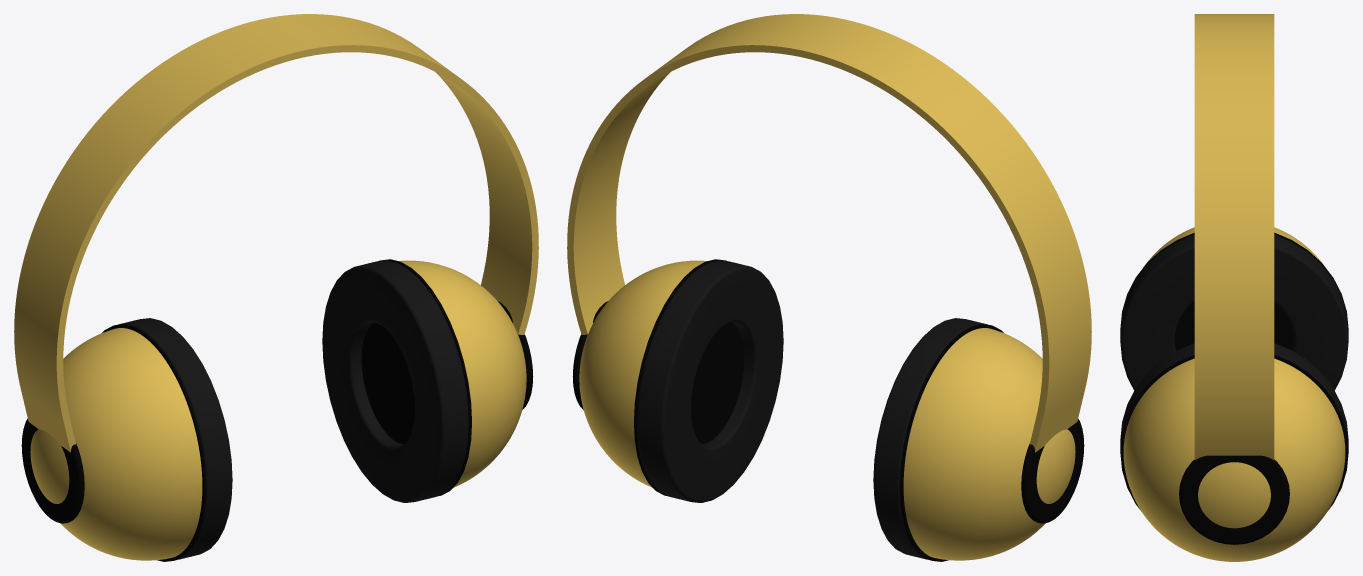
Rendered from headphones.fbx.
The picture shows the model from 3 angles, left to right: view 1: azimuth 30°, elevation 25°; view 2: azimuth 150°, elevation 25°; view 3: azimuth 270°, elevation 25°; orthographic projection. The views are drawn at different scales.
Visible parts, largest first — view 1: Куб, Сфера_2, Труба_2, Сфера, Труба_3, Диск, Цилиндр_2, Труба, Труба_1; view 2: Куб, Сфера_2, Труба_2, Сфера, Труба_3, Диск, Цилиндр_2, Труба, Труба_1; view 3: Куб, Сфера, Труба_3, Цилиндр, Труба_2, Труба_1, Диск_2, Труба, Сфера_2.
Boxes of the visible parts, x1,y1,x2,y2 form: Куб: [14, 14, 538, 452]; Сфера_2: [30, 328, 202, 560]; Труба_2: [322, 260, 468, 502]; Сфера: [398, 260, 526, 487]; Труба_3: [117, 318, 232, 559]; Диск: [361, 322, 414, 444]; Цилиндр_2: [21, 418, 84, 523]; Труба: [102, 324, 206, 561]; Труба_1: [378, 259, 471, 496]; Куб: [567, 14, 1091, 452]; Сфера_2: [903, 328, 1075, 560]; Труба_2: [637, 260, 783, 502]; Сфера: [579, 260, 707, 487]; Труба_3: [873, 318, 988, 559]; Диск: [691, 322, 744, 444]; Цилиндр_2: [1021, 418, 1084, 523]; Труба: [899, 324, 1003, 561]; Труба_1: [634, 259, 727, 496]; Куб: [1194, 14, 1274, 459]; Сфера: [1123, 358, 1345, 561]; Труба_3: [1120, 234, 1348, 390]; Цилиндр: [1179, 455, 1289, 544]; Труба_2: [1120, 343, 1348, 448]; Труба_1: [1120, 354, 1348, 511]; Диск_2: [1174, 301, 1294, 350]; Труба: [1120, 232, 1348, 329]; Сфера_2: [1144, 227, 1324, 266].
Bounding box in the file's own units: 471 × 453 × 206.
